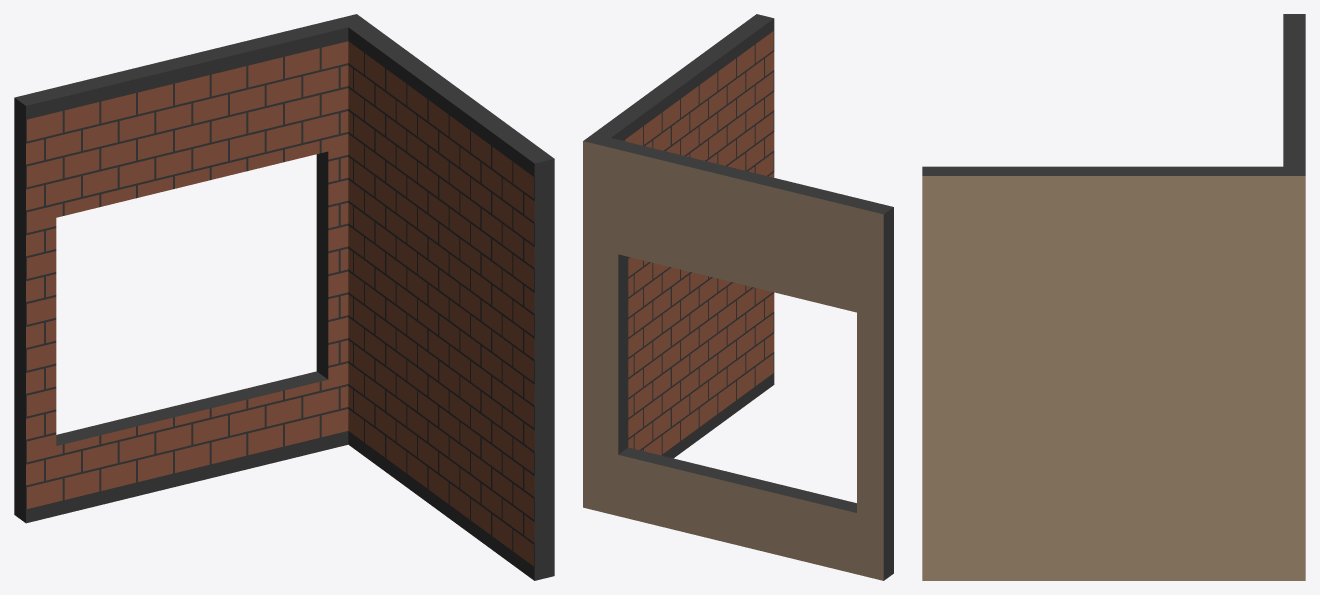
File: Wall2_C10_13.fbx
3 views of the same model, side by side, from view 1: azimuth 30°, elevation 25°; view 2: azimuth 150°, elevation 25°; view 3: azimuth 270°, elevation 25° (orthographic). The views are drawn at different scales.
Parts seen in each view (by area): view 1: Wall2_C10_13; view 2: Wall2_C10_13; view 3: Wall2_C10_13.
Boxes of the visible parts, <box> form: Wall2_C10_13: <box>14,14,554,580</box>; Wall2_C10_13: <box>583,14,893,580</box>; Wall2_C10_13: <box>922,14,1305,580</box>.
Bounding box in the file's own units: 258 × 300 × 258.
